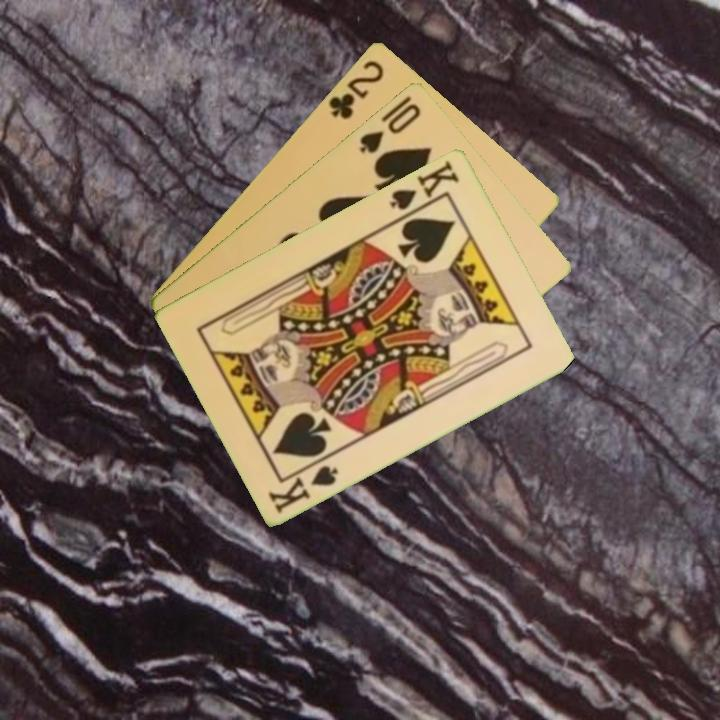10s: (355, 99, 424, 156)
2c: (324, 56, 387, 122)
Ks: (386, 156, 463, 213), (264, 461, 342, 516)
